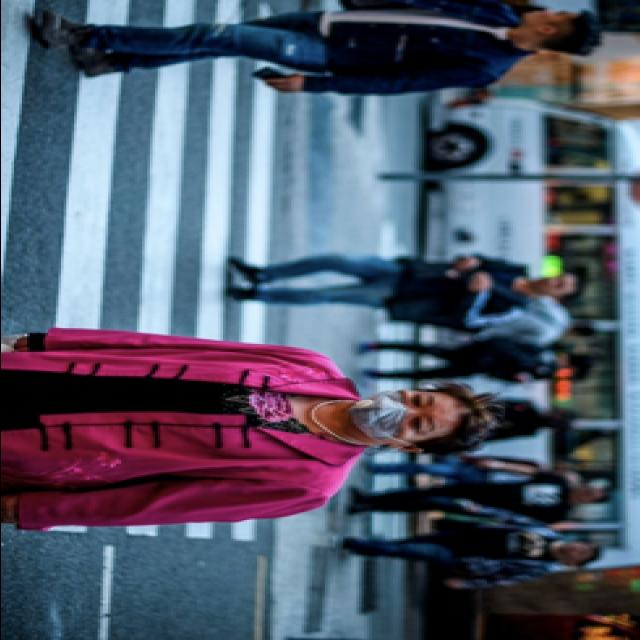mask: (348, 391, 444, 442)
no_mask: (522, 8, 578, 26), (536, 276, 572, 294), (572, 487, 604, 502), (562, 544, 590, 560)
